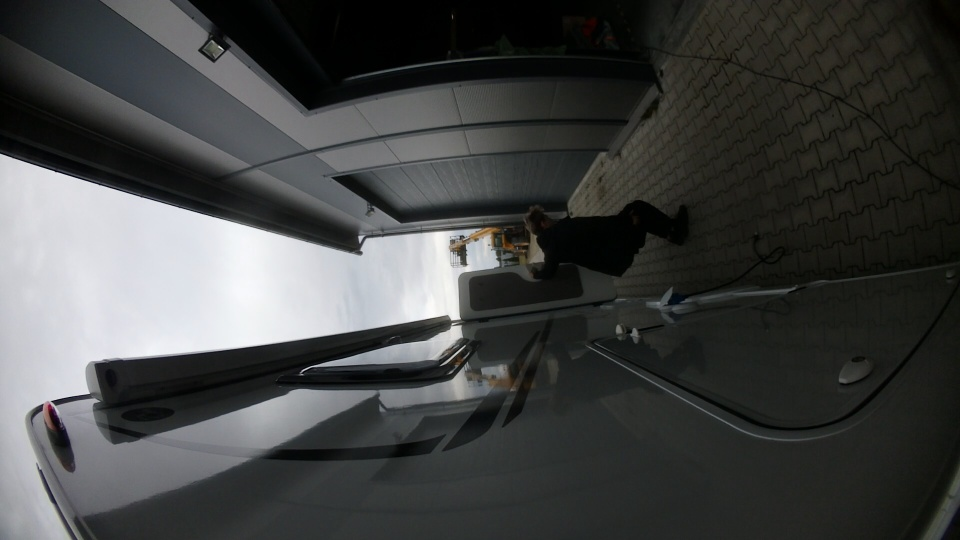door_back: (450, 255, 637, 324)
